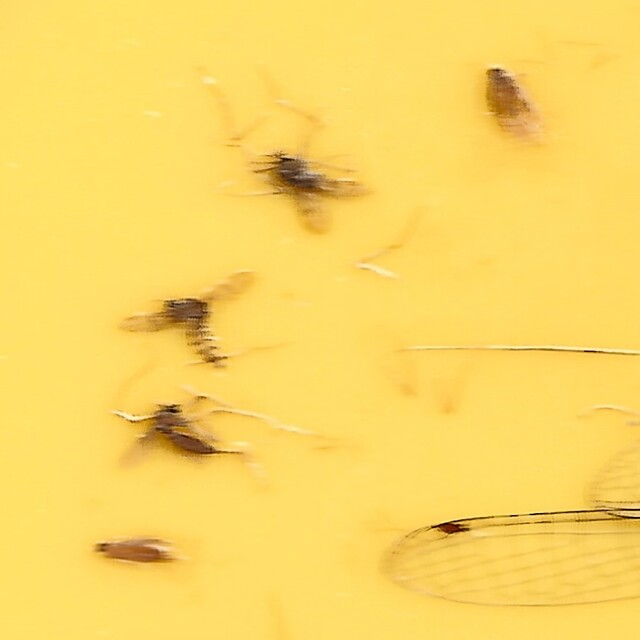Nematocera: (114, 271, 256, 371), (264, 146, 386, 241), (104, 390, 242, 465)
Trichoptera: (481, 67, 547, 138), (93, 533, 183, 573)
